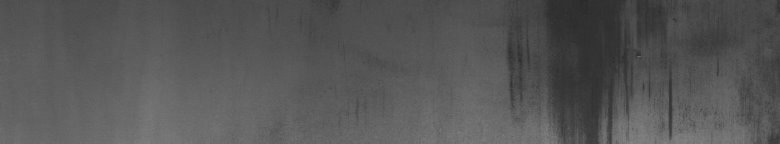ka: (501, 4, 768, 136)
